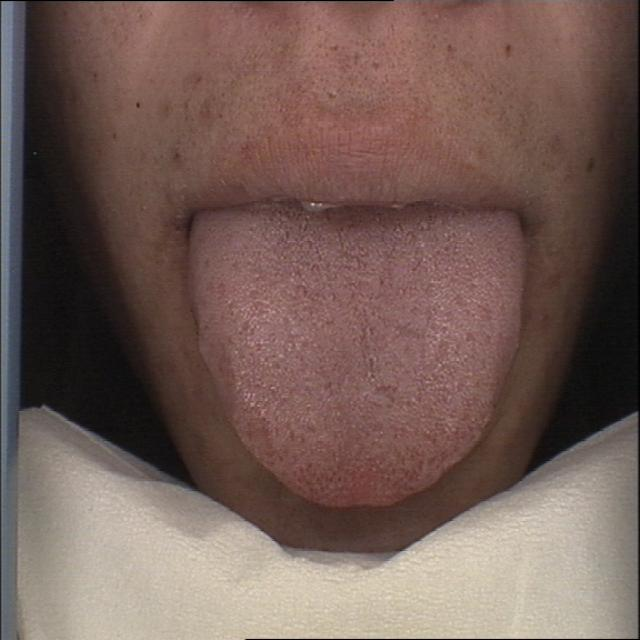tongue: (176, 201, 539, 514)
